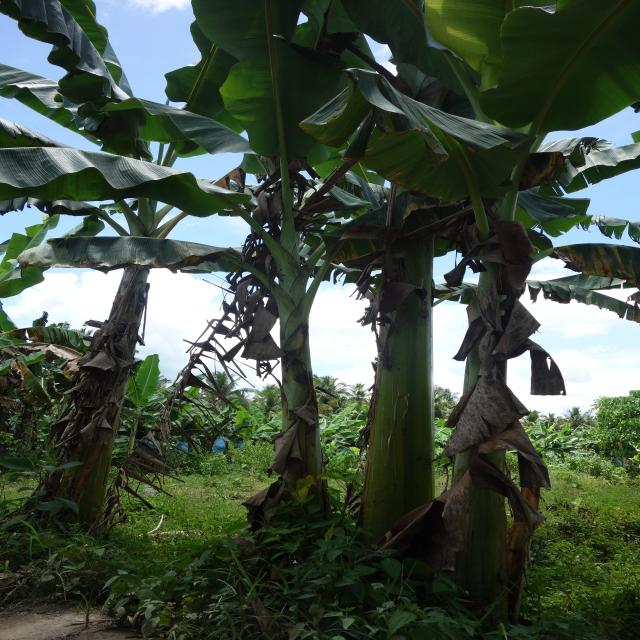Banana-plant: (27, 202, 194, 536), (432, 184, 550, 606), (236, 196, 335, 548), (346, 171, 423, 566)
